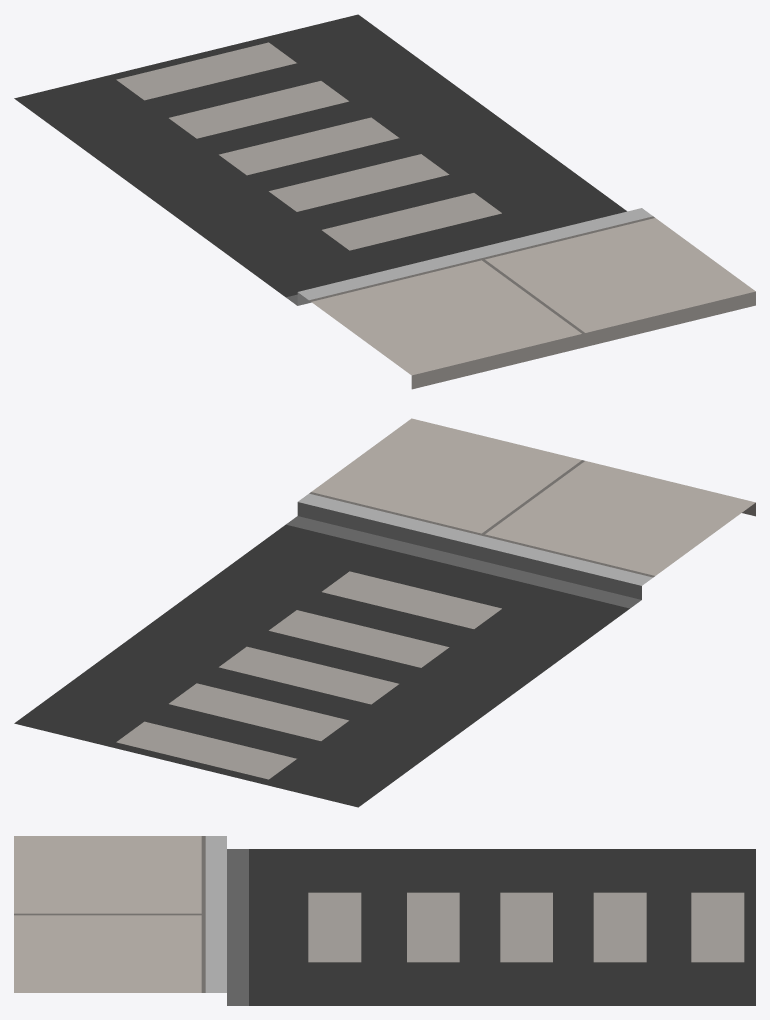
The model's file is SA_Env_Road_Crossing_01.fbx.
3 views of the same model, one above another, from view 1: azimuth 30°, elevation 25°; view 2: azimuth 150°, elevation 25°; view 3: azimuth 270°, elevation 25° (orthographic). The views are drawn at different scales.
Parts seen in each view (by area): view 1: SA_Env_Road_Crossing_01; view 2: SA_Env_Road_Crossing_01; view 3: SA_Env_Road_Crossing_01.
Part boxes in pixels (<box>): SA_Env_Road_Crossing_01: <box>14,14,755,389</box>; SA_Env_Road_Crossing_01: <box>14,418,755,807</box>; SA_Env_Road_Crossing_01: <box>14,836,755,1005</box>.
Size of the model in its own units: 5 by 0.1948 by 10.
1 material, 1 textured.
